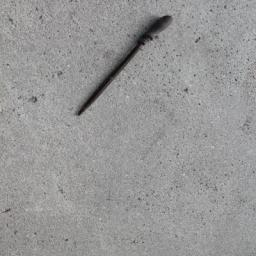FOD: (78, 14, 175, 119)
